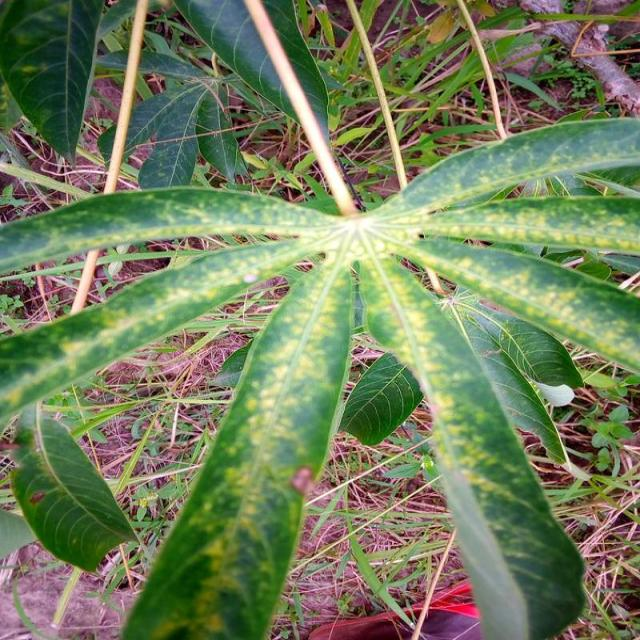cassava leaf: (1, 2, 638, 638), (354, 252, 588, 638), (118, 258, 354, 639), (9, 406, 137, 574)
